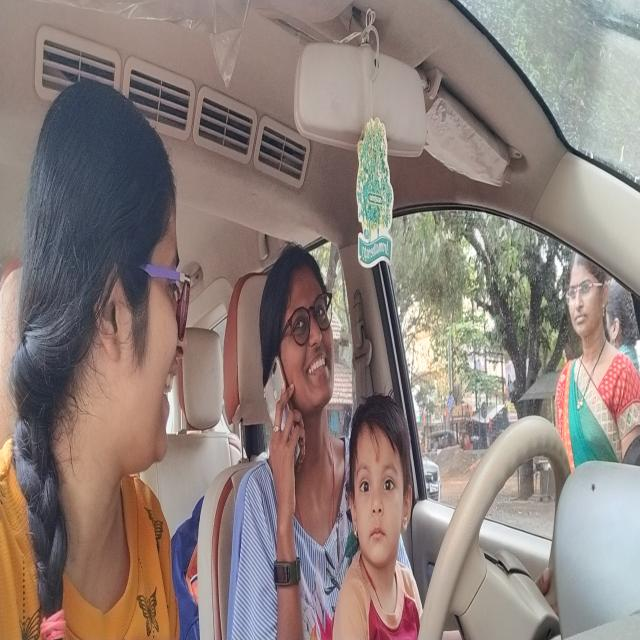child: (344, 391, 416, 571)
mobile: (260, 354, 305, 467)
person: (15, 70, 194, 475), (257, 240, 338, 422)
